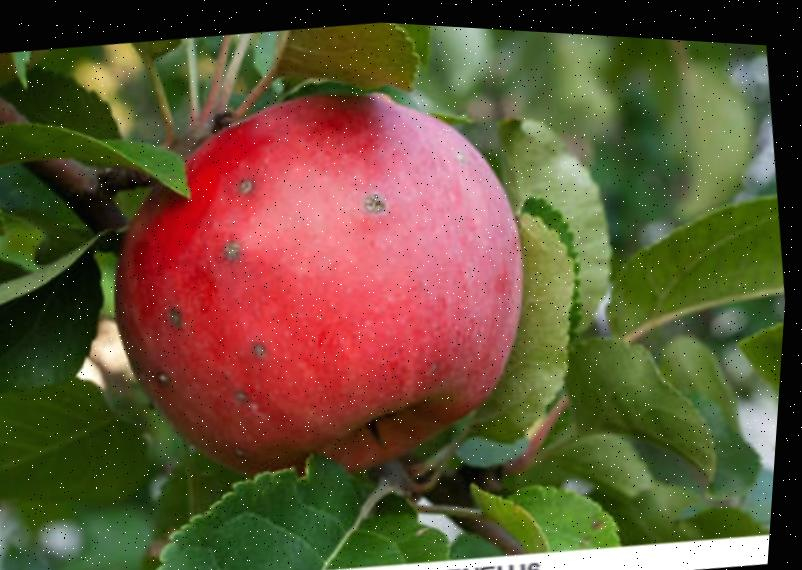SCAB: (49, 34, 619, 522)
